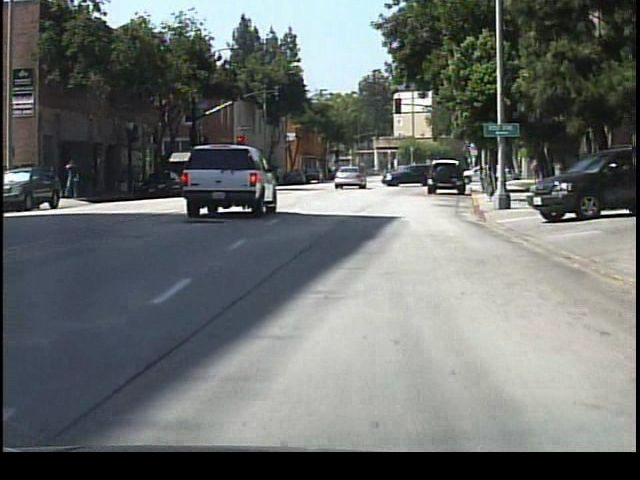person: (64, 157, 86, 202), (327, 162, 344, 187), (481, 155, 496, 182)
